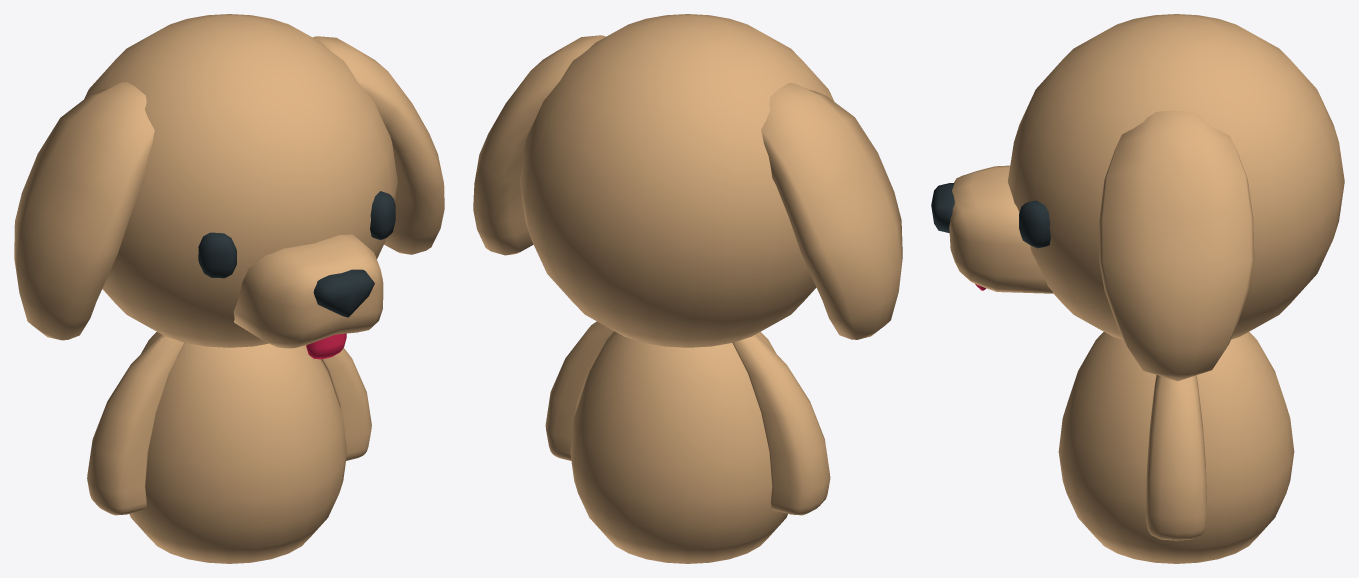
The model's file is character_dog.glb.
3 views of the same model, side by side, from view 1: azimuth 30°, elevation 25°; view 2: azimuth 150°, elevation 25°; view 3: azimuth 270°, elevation 25° (orthographic).
Parts seen in each view (by area): view 1: character_dog; view 2: character_dog; view 3: character_dog.
Part boxes in pixels (x1,y1,x2,y2): character_dog: (14, 14, 444, 563); character_dog: (473, 14, 902, 563); character_dog: (931, 14, 1344, 563).
Size of the model in its own units: 1.39 by 1.64 by 1.23.
